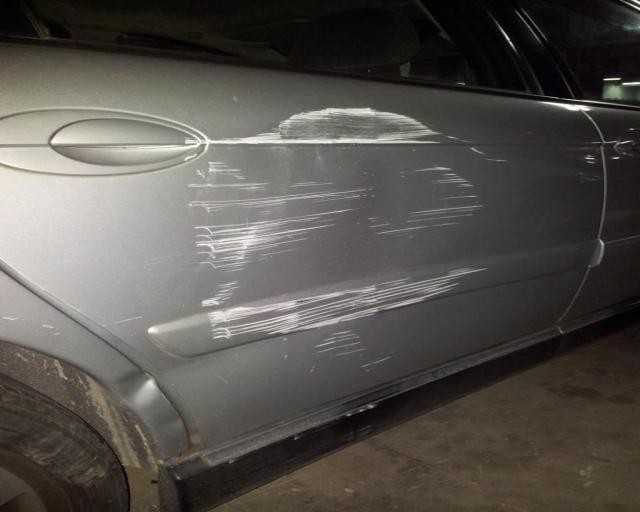scratch: (185, 103, 494, 367), (572, 128, 639, 192), (1, 303, 90, 349)
